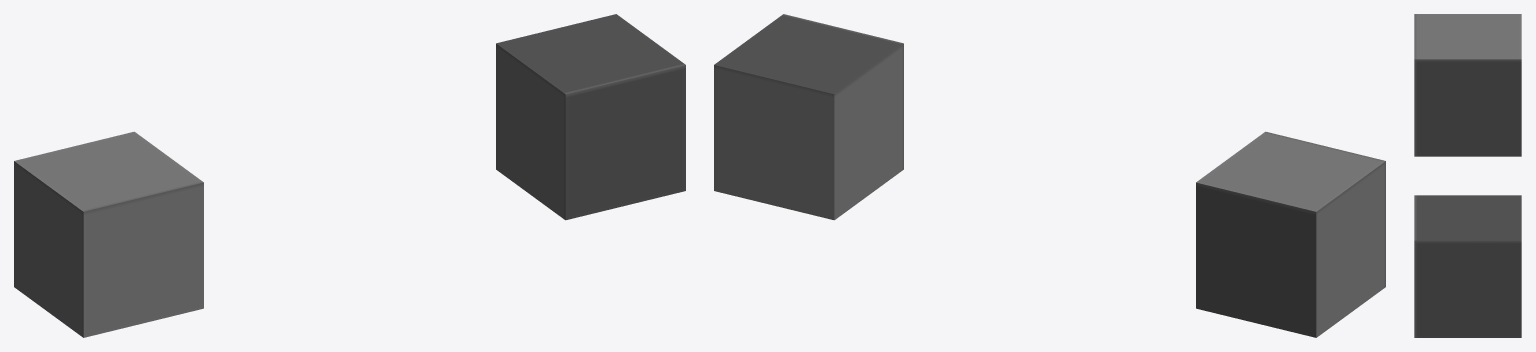
Rendered from tris.obj.
3 views of the same model, side by side, from view 1: azimuth 30°, elevation 25°; view 2: azimuth 150°, elevation 25°; view 3: azimuth 270°, elevation 25° (orthographic). The views are drawn at different scales.
Parts seen in each view (by area): view 1: slot1; view 2: slot1; view 3: slot1.
Part boxes in pixels (x1,y1,x2,y2): slot1: (14, 14, 685, 337); slot1: (714, 14, 1385, 337); slot1: (1414, 14, 1521, 337).
Bounding box in the file's own units: 5 × 1 × 1.
